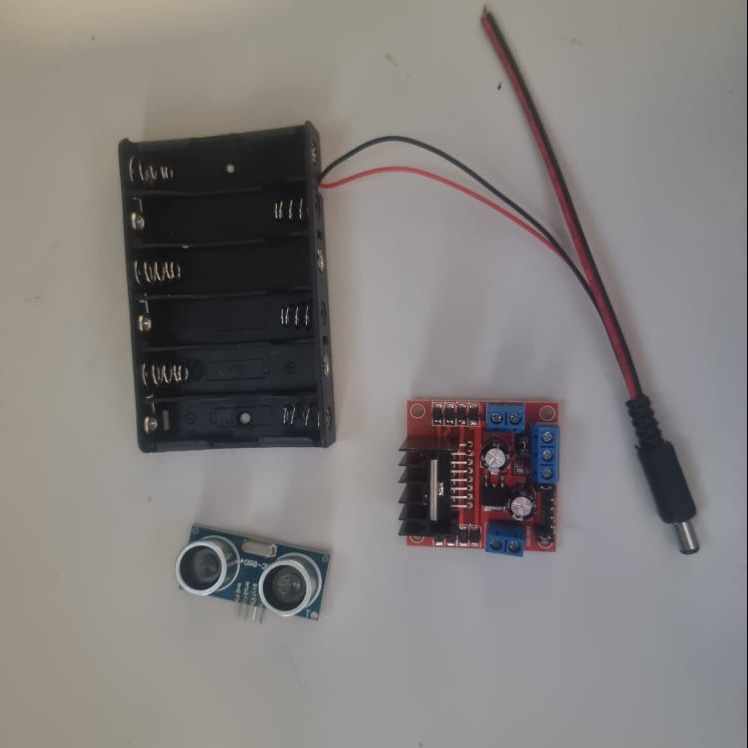BATTERY BOX: (119, 119, 337, 454)
MOTOR: (401, 398, 562, 559)
SENSOR: (176, 521, 335, 631)
